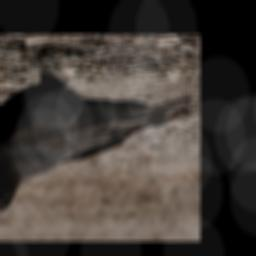Crow: (0, 42, 193, 215)
